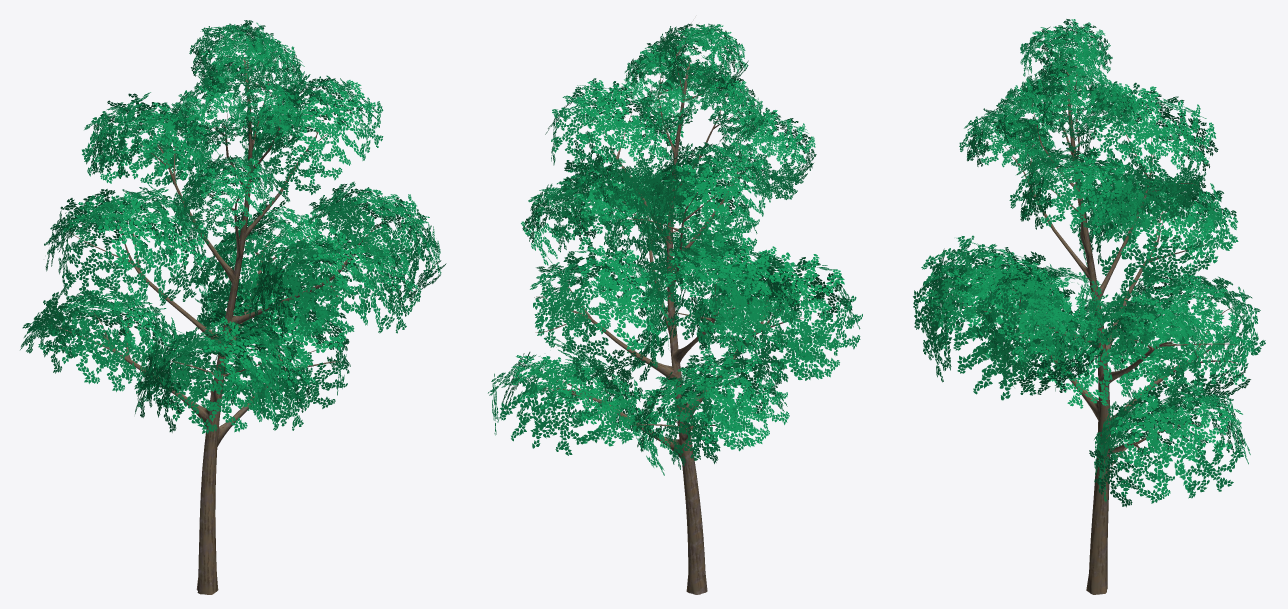
File: Tree_Oak1.fbx
3 renders of one model, left to right at view 1: azimuth 30°, elevation 25°; view 2: azimuth 150°, elevation 25°; view 3: azimuth 270°, elevation 25°, orthographic. The views are drawn at different scales.
Visible parts, largest first — view 1: Tree_Oak1; view 2: Tree_Oak1; view 3: Tree_Oak1.
Part boxes in pixels (x1,y1,x2,y2): Tree_Oak1: [20, 20, 446, 594]; Tree_Oak1: [488, 23, 862, 594]; Tree_Oak1: [913, 19, 1265, 594].
Bounding box in the file's own units: 498 × 807 × 474.
